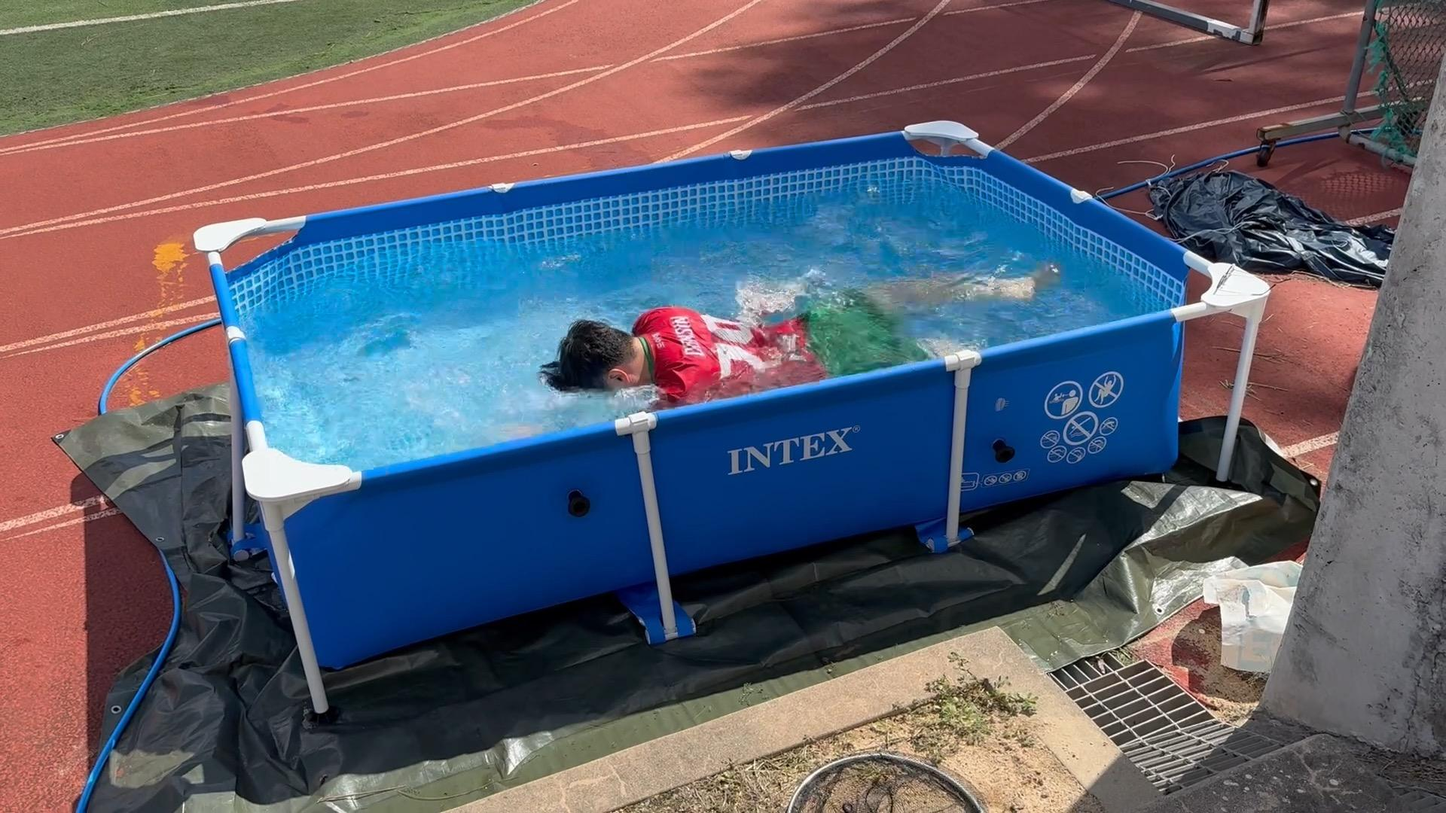Drowning: (455, 270, 1100, 423)
